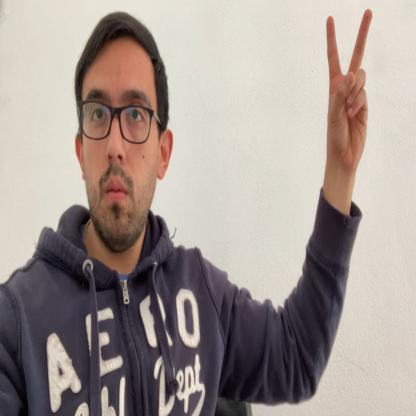V: (325, 7, 374, 183)
